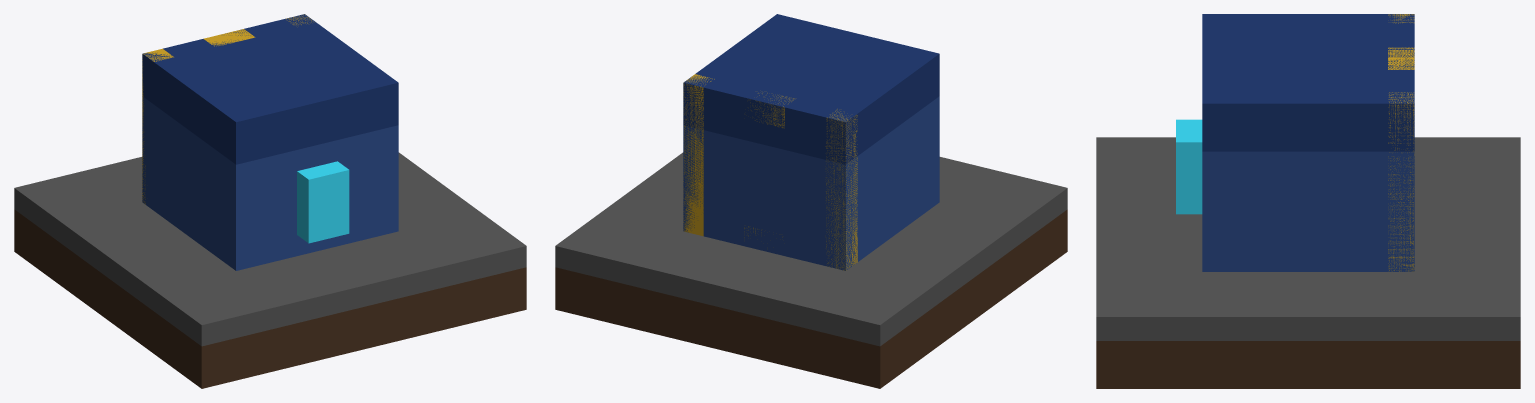
File: tile_chest.glb
3 renders of one model, left to right at view 1: azimuth 30°, elevation 25°; view 2: azimuth 150°, elevation 25°; view 3: azimuth 270°, elevation 25°, orthographic. The views are drawn at different scales.
Visible parts, largest first — view 1: Top mesh, Lid mesh, Body mesh, Base mesh, Lock mesh, Band mesh, Trim mesh; view 2: Top mesh, Body mesh, Lid mesh, Base mesh, Band mesh; view 3: Top mesh, Lid mesh, Body mesh, Base mesh, Lock mesh, Band mesh, Trim mesh.
Boxes of the visible parts, x1,y1,x2,y2 form: Top mesh: (14,152,526,346); Lid mesh: (142,14,398,164); Body mesh: (142,96,398,270); Base mesh: (14,209,526,388); Lock mesh: (297,161,349,243); Band mesh: (142,14,313,204); Trim mesh: (203,29,255,46); Top mesh: (555,152,1067,346); Body mesh: (683,96,939,270); Lid mesh: (683,14,939,164); Base mesh: (555,209,1067,388); Band mesh: (683,74,857,270); Top mesh: (1096,137,1520,340); Lid mesh: (1202,14,1414,151); Body mesh: (1202,151,1414,271); Base mesh: (1096,341,1520,388); Lock mesh: (1176,119,1202,214); Band mesh: (1388,14,1414,271); Trim mesh: (1388,47,1414,69).
Size of the model in its own units: 16 by 10 by 16.
Materials: 1 (1 with a texture image).
